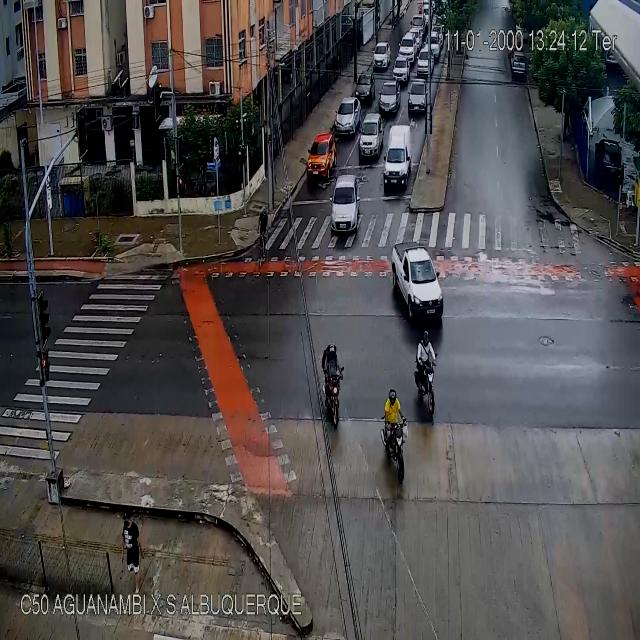Car: (392, 243, 443, 326), (330, 173, 360, 235), (384, 126, 411, 186), (307, 132, 336, 181), (358, 114, 382, 156), (337, 98, 360, 132), (408, 81, 427, 114), (381, 81, 400, 111), (357, 73, 374, 105), (418, 48, 432, 78), (375, 42, 390, 68), (426, 31, 440, 56), (392, 56, 407, 79), (398, 36, 413, 58), (512, 56, 528, 76), (411, 16, 423, 38)
Motorcycle: (381, 391, 407, 482), (415, 332, 436, 411), (322, 348, 341, 428)
